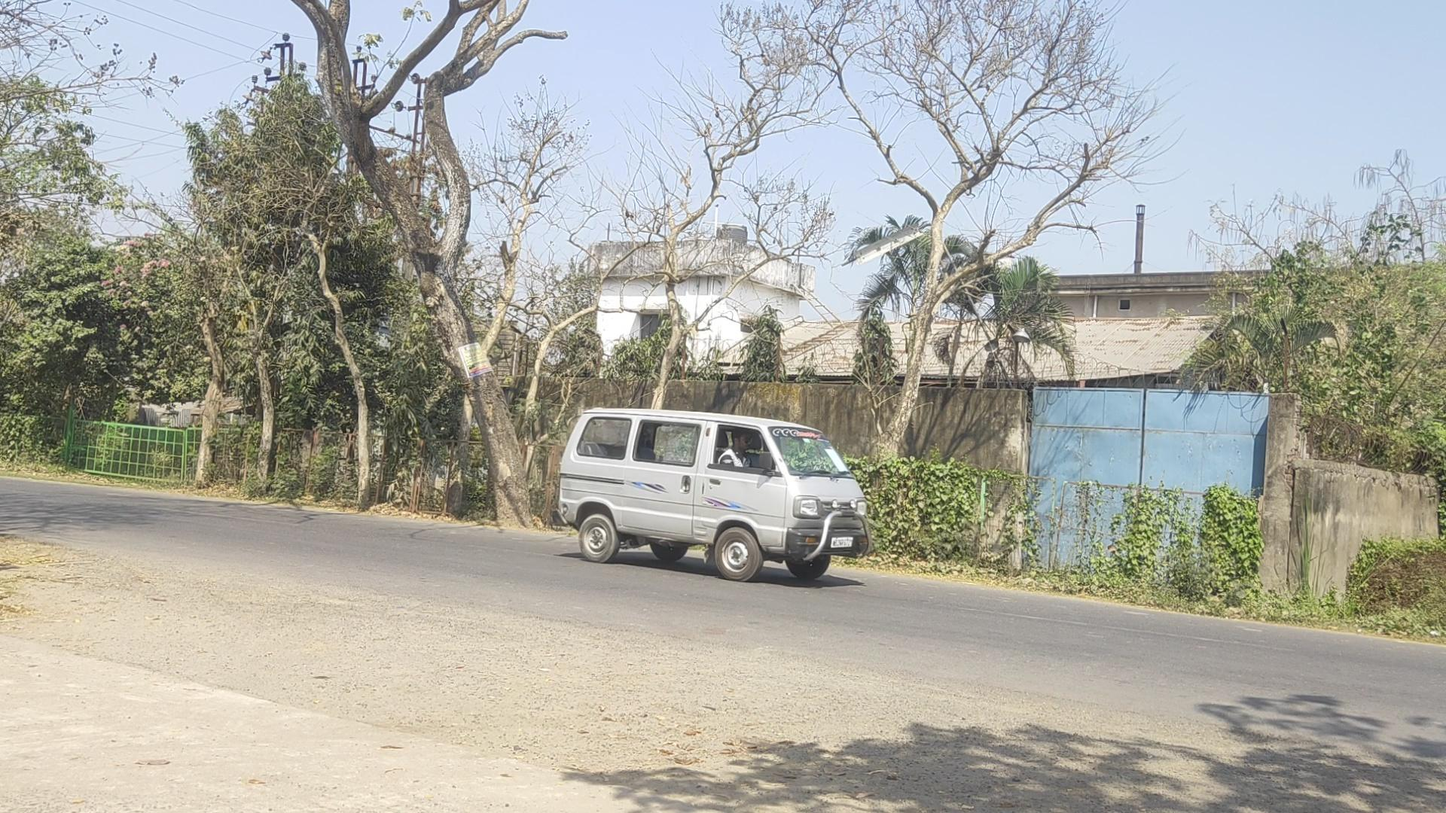van: (557, 405, 871, 582)
